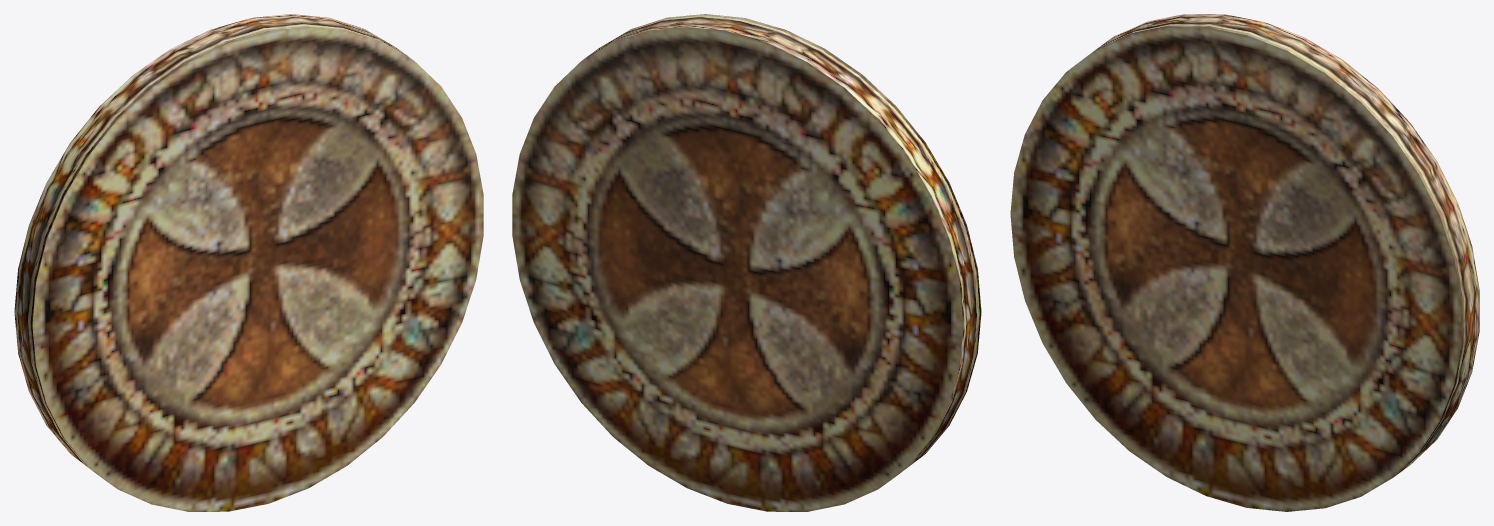
The model's file is static.ico.obj.
3 views of the same model, side by side, from view 1: azimuth 30°, elevation 25°; view 2: azimuth 150°, elevation 25°; view 3: azimuth 330°, elevation 25° (orthographic).
Bounding box in the file's own units: 2.77 × 2.78 × 0.1919.
Materials: 1 (1 with a texture image).
